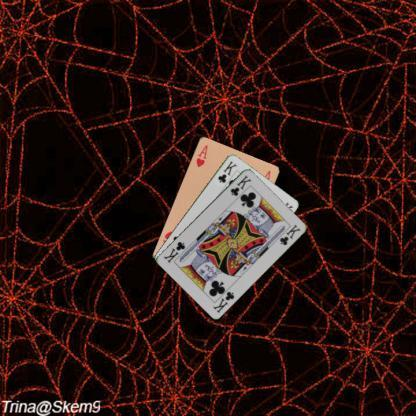Ah: (194, 142, 209, 168)
Kc: (210, 288, 235, 314), (228, 173, 252, 197), (216, 158, 238, 184)
